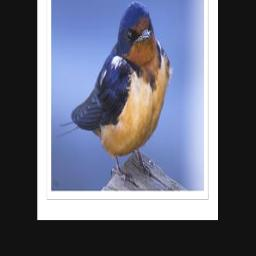Swallow: (56, 0, 174, 187)
